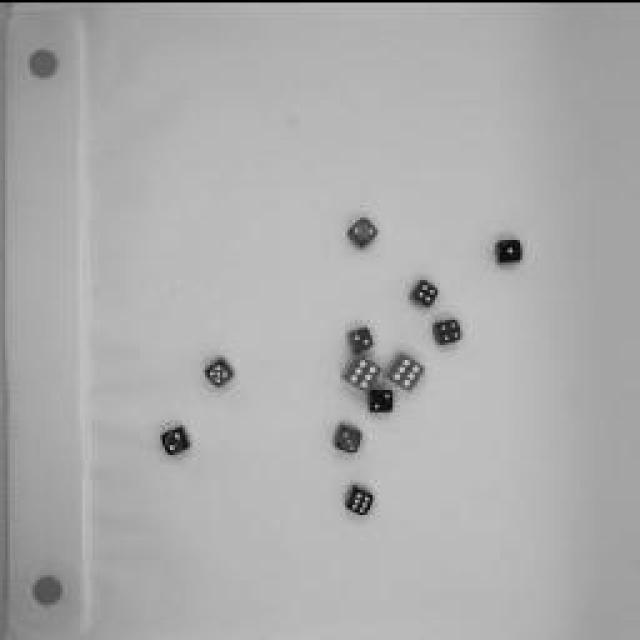dice_1: (494, 233, 524, 265)
dice_2: (345, 212, 383, 248), (158, 418, 192, 454), (365, 381, 397, 414), (346, 321, 376, 351)
dice_3: (333, 418, 365, 454)
dice_4: (408, 274, 440, 306), (431, 312, 464, 342)
dice_5: (202, 350, 238, 385)
dice_6: (382, 345, 428, 393), (338, 350, 384, 390), (344, 480, 376, 515)
